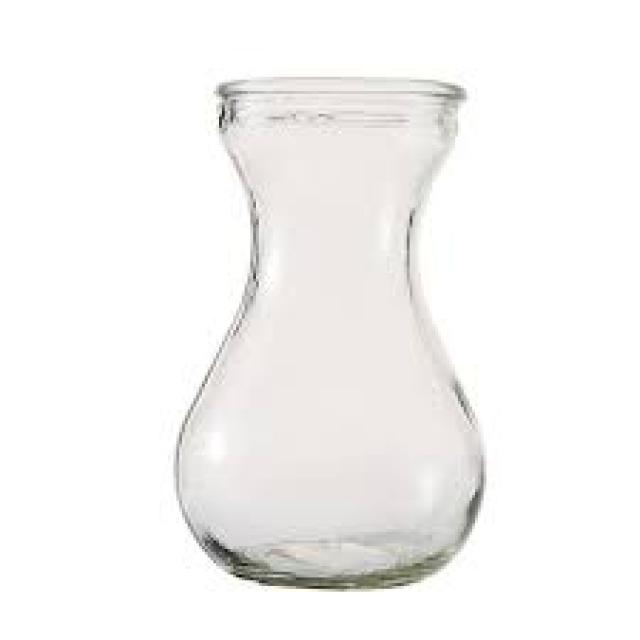glass: (174, 77, 481, 589)
